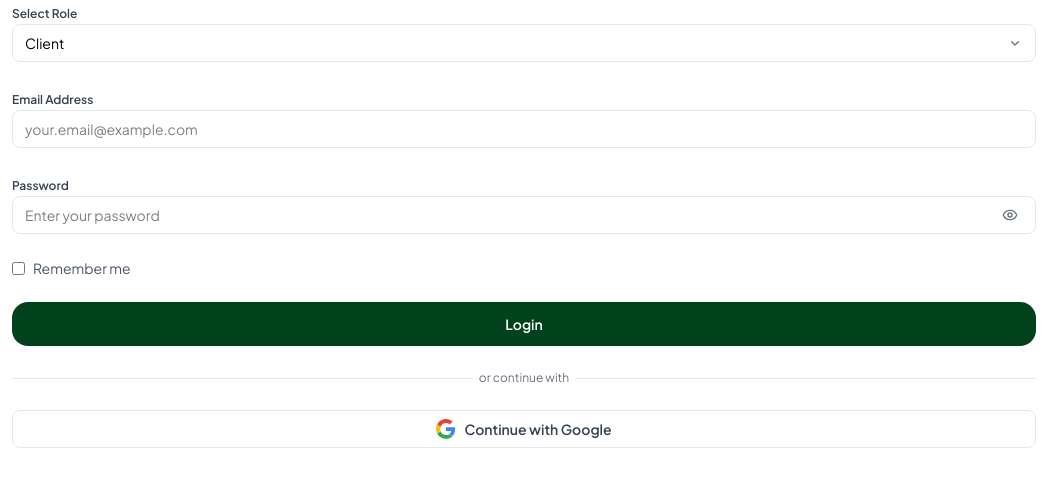
Test: LoginForm › rejects an email the app's stricter rule refuses (domain without a dot)
Step 1. Type "nope@x" into the field labelled "Email Address" → {"x": 524, "y": 129}, box [12,110,1036,148]
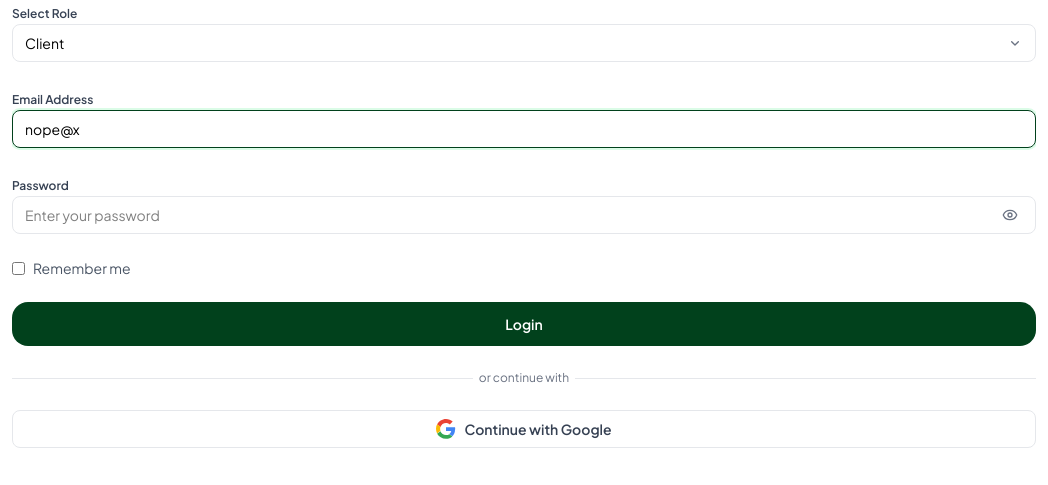
Step 2. Type "Passw0rd!" into the password field labelled "Password" → {"x": 524, "y": 215}, box [12,196,1036,234]
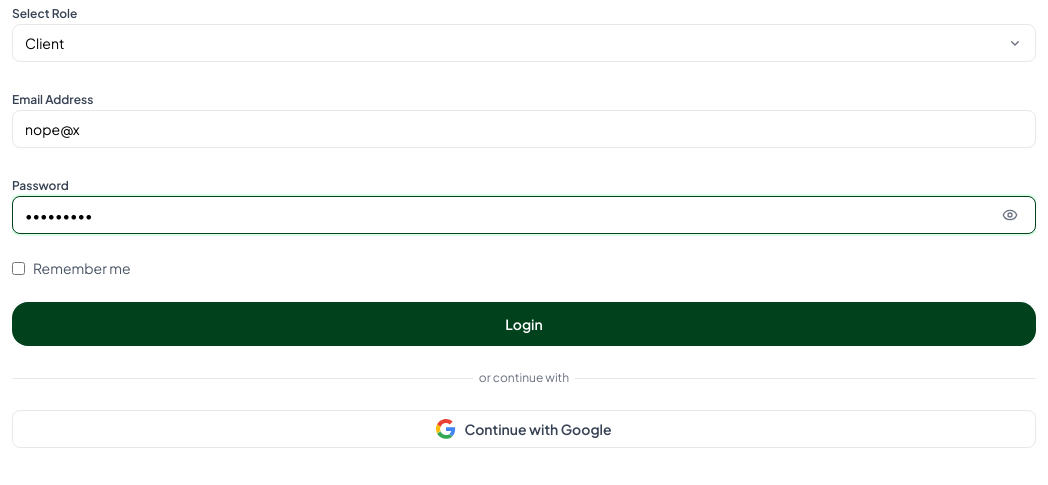
Step 3. Click the button "Login" → {"x": 524, "y": 324}, box [12,302,1036,346]
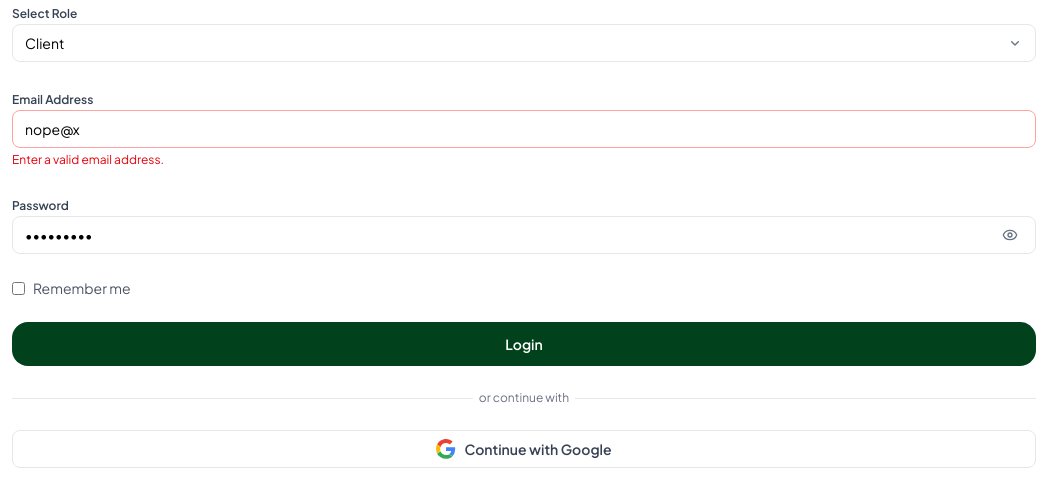
Now the text "Enter a valid email address." is shown, box [12,152,164,167]
